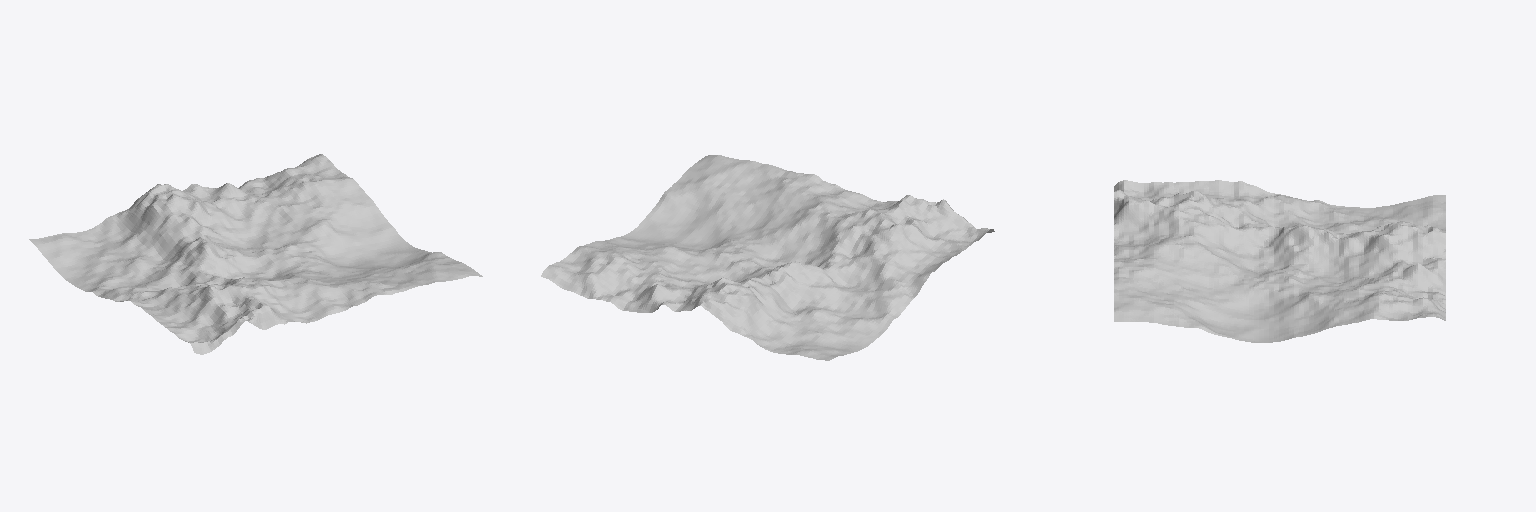
File: ground9.obj
3 renders of one model, left to right at view 1: azimuth 30°, elevation 25°; view 2: azimuth 150°, elevation 25°; view 3: azimuth 270°, elevation 25°, orthographic.
Visible parts, largest first — view 1: ground9; view 2: ground9; view 3: ground9.
Boxes of the visible parts, x1=… form: ground9: x1=29, y1=154, x2=482, y2=354; ground9: x1=541, y1=155, x2=994, y2=360; ground9: x1=1114, y1=180, x2=1445, y2=342.
Bounding box in the file's own units: 88.42 × 13.05 × 87.87.